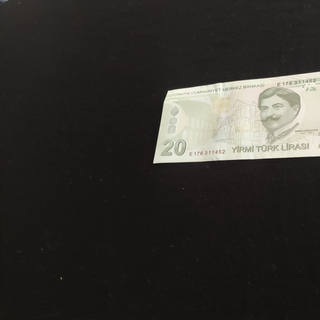20TLBack: (152, 66, 320, 166)
